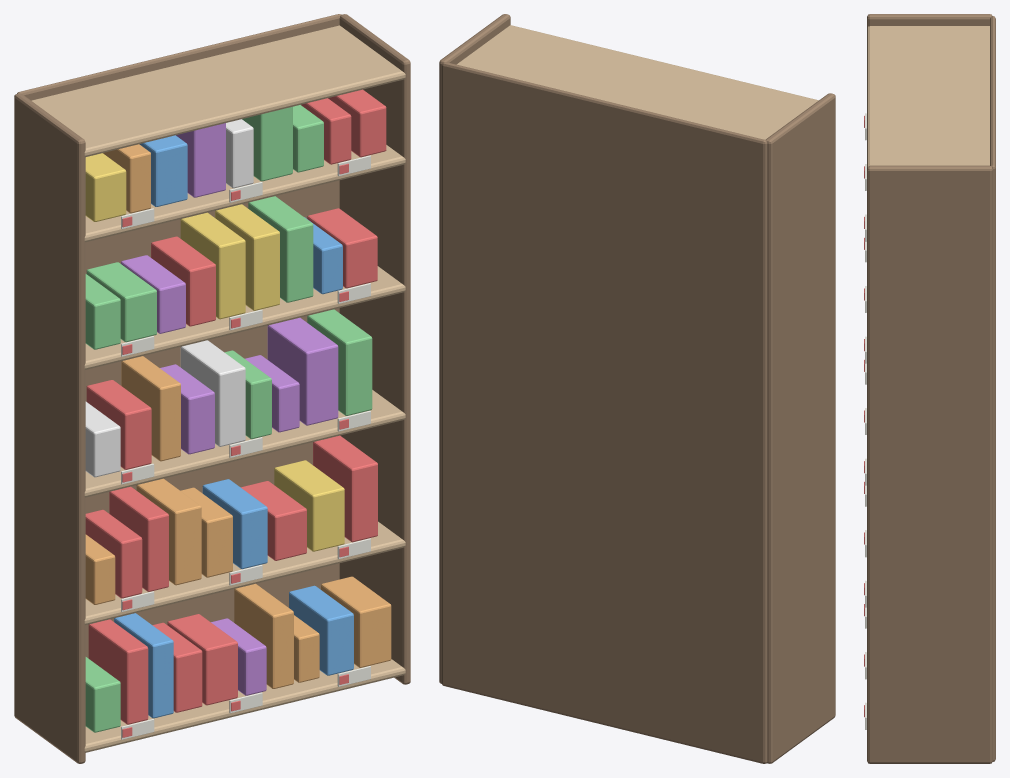
Rendered from shop_shelf.glb.
3 views of the same model, side by side, from view 1: azimuth 30°, elevation 25°; view 2: azimuth 150°, elevation 25°; view 3: azimuth 270°, elevation 25° (orthographic). The views are drawn at different scales.
Visible parts, largest first — view 1: Shop_Shelf; view 2: Shop_Shelf; view 3: Shop_Shelf.
Part boxes in pixels (<box>): Shop_Shelf: <box>14,14,410,763</box>; Shop_Shelf: <box>439,14,835,763</box>; Shop_Shelf: <box>864,14,995,763</box>.
Bounding box in the file's own units: 1.23 × 2.2 × 0.44.
